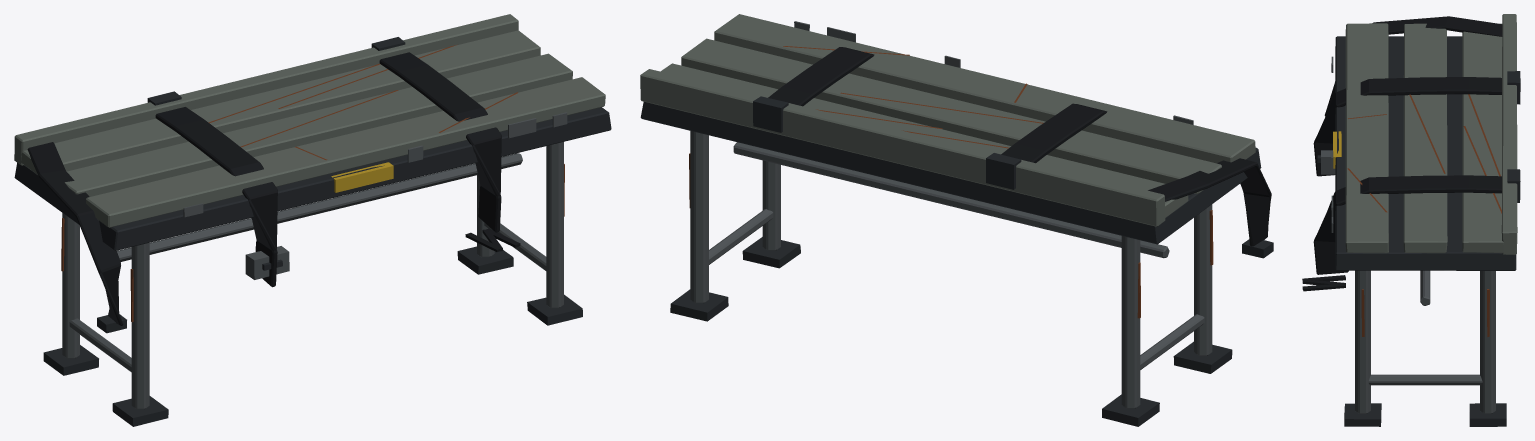
File: airlock_bench.glb
3 renders of one model, left to right at view 1: azimuth 30°, elevation 25°; view 2: azimuth 150°, elevation 25°; view 3: azimuth 270°, elevation 25°, orthographic. The views are drawn at different scales.
Parts seen in each view (by area): view 1: airlock_bench; view 2: airlock_bench; view 3: airlock_bench.
Boxes of the visible parts, box(x1,y1,x2,y2) form: airlock_bench: box(14, 14, 611, 426); airlock_bench: box(640, 14, 1273, 426); airlock_bench: box(1302, 14, 1520, 426).
Bounding box in the file's own units: 1.24 × 0.5309 × 0.506.
